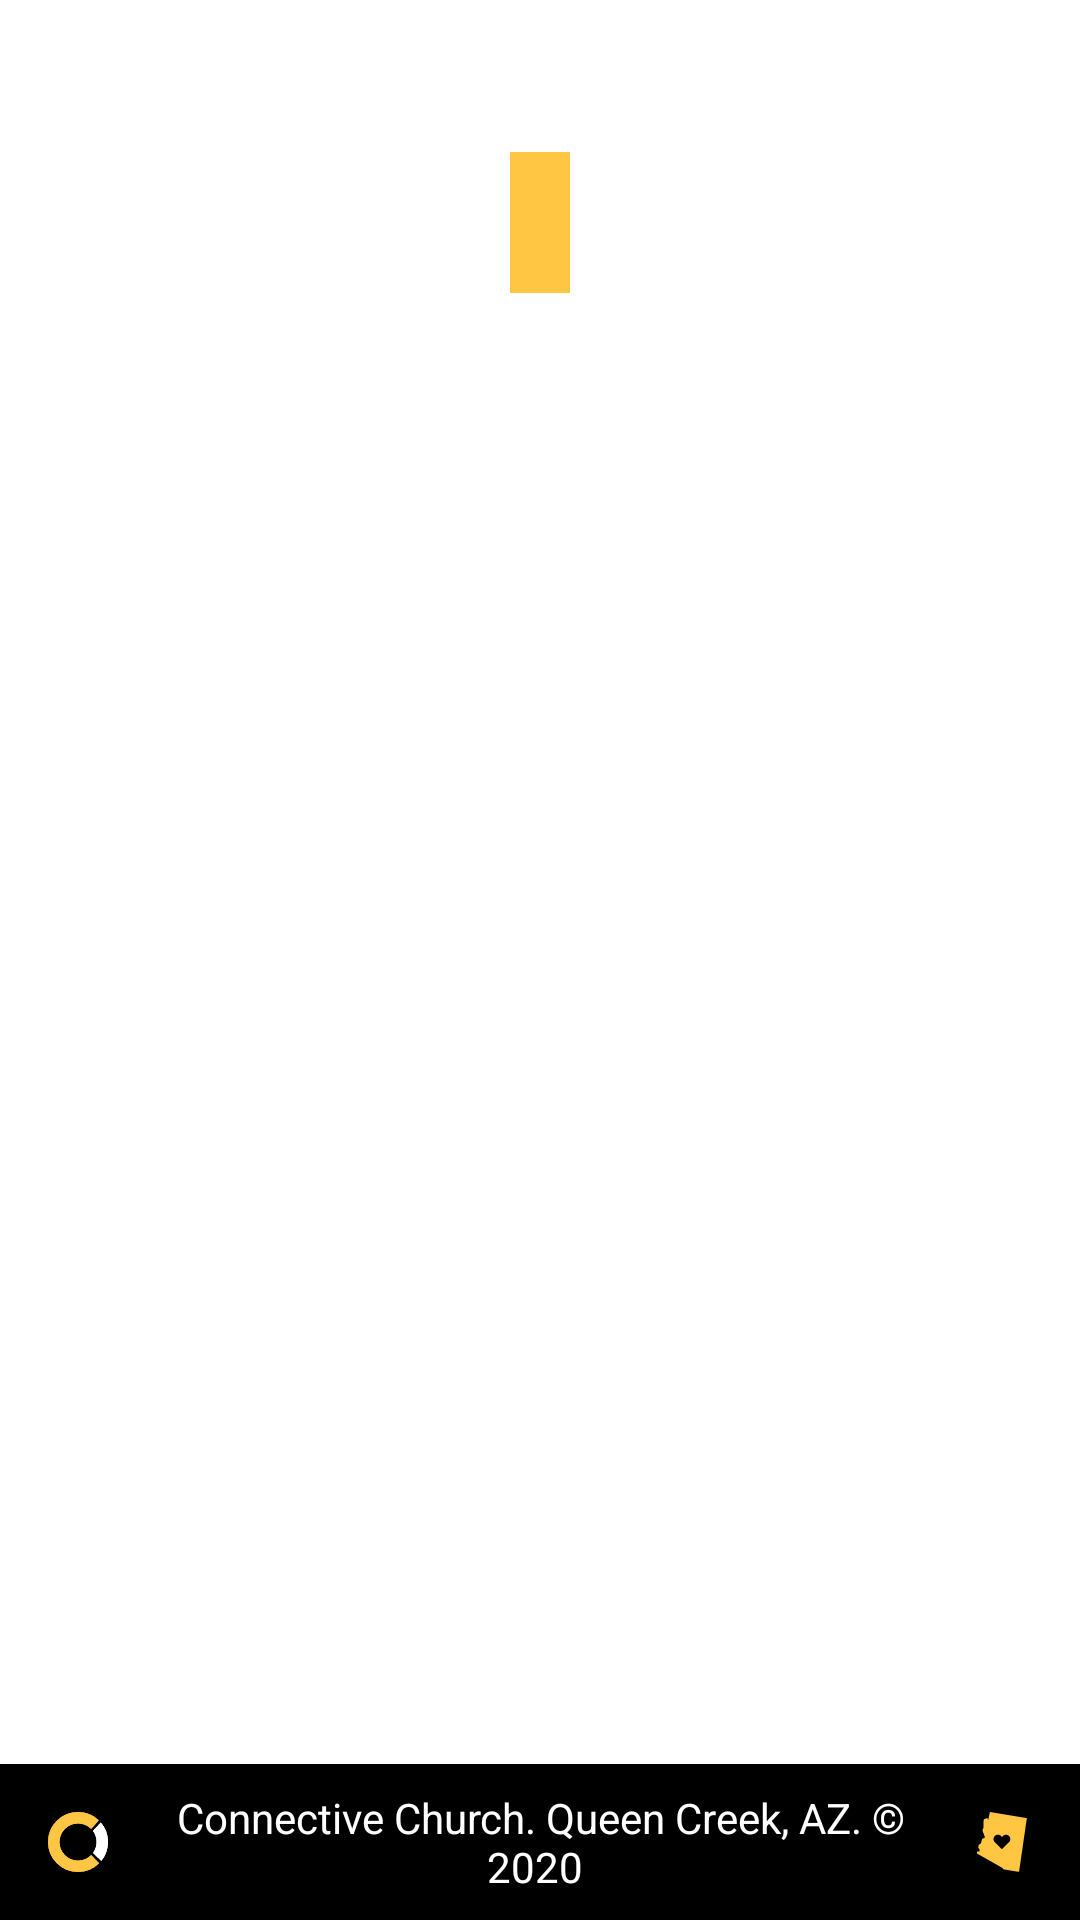

Icons on this 1080w x 1920h Android screen, each with the point to tap as point (x, y):
arizona legales: point (1002, 1842)
